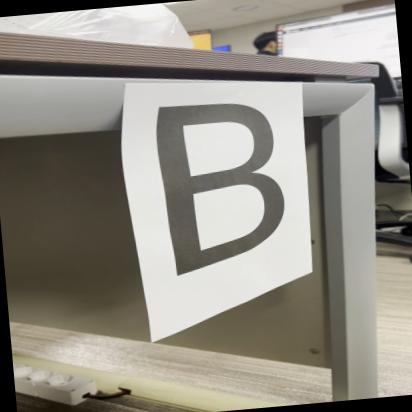seat: (140, 89, 319, 283)
